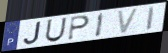I: (94, 11, 106, 38), (145, 5, 157, 31)
J: (22, 21, 42, 46)
P: (66, 15, 91, 41)
U: (44, 17, 68, 43)
V: (116, 7, 140, 36)
